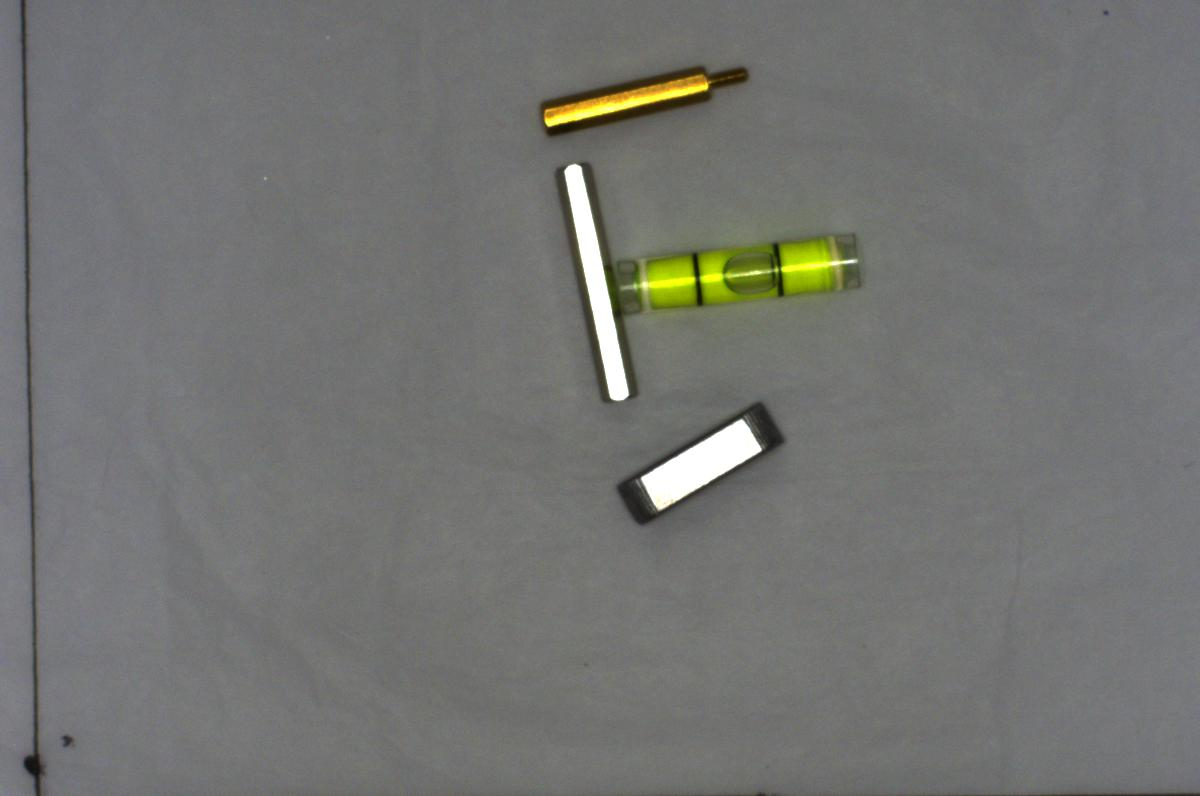Double hexagonal column: (553, 156, 637, 407)
Hexagon pillar: (544, 61, 754, 141)
Horizontal bubble: (613, 233, 864, 309)
Keybar: (619, 398, 786, 522)
